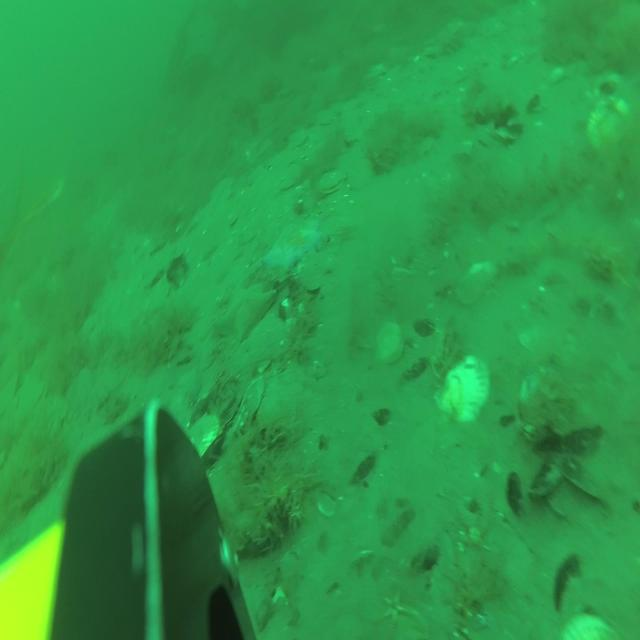scallop: (436, 353, 490, 417), (584, 95, 630, 155), (182, 415, 222, 468), (456, 259, 496, 307), (558, 612, 614, 640), (378, 319, 406, 366), (349, 157, 372, 191), (316, 171, 346, 194)
starfish: (215, 277, 273, 341), (264, 217, 320, 266)
